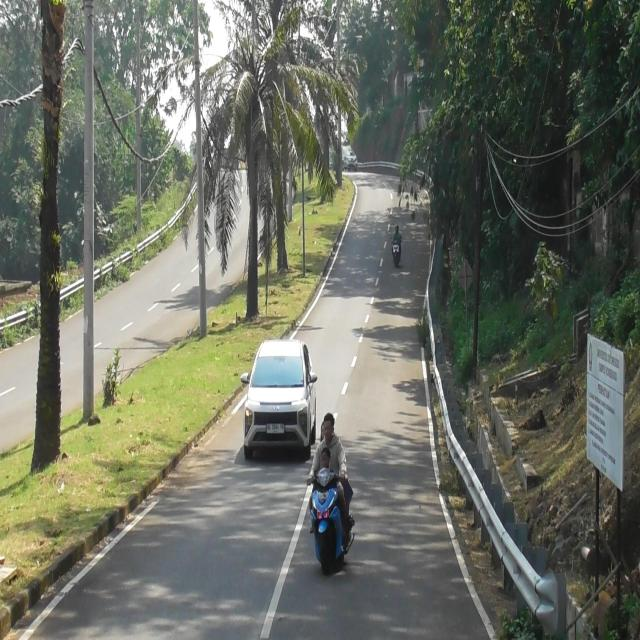motorcycle: (305, 470, 351, 573), (391, 239, 402, 265)
person: (312, 421, 353, 527), (308, 414, 347, 479), (316, 448, 334, 474), (391, 224, 402, 241)
rider_region: (304, 408, 358, 578), (388, 221, 404, 270)
